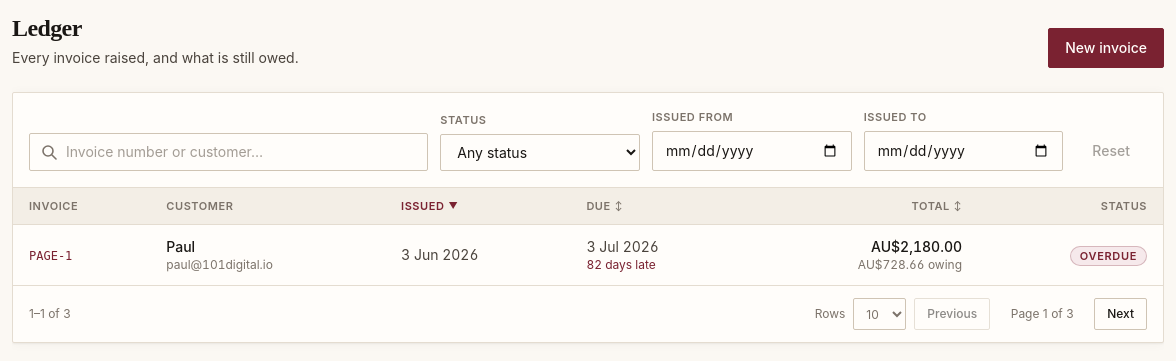
LedgerPage › fetches the next page from the server
Expected: the link "PAGE-1" is shown, [29,249,72,263]
Click the button "Next" at point(1121, 314), box [1094,298,1147,330]
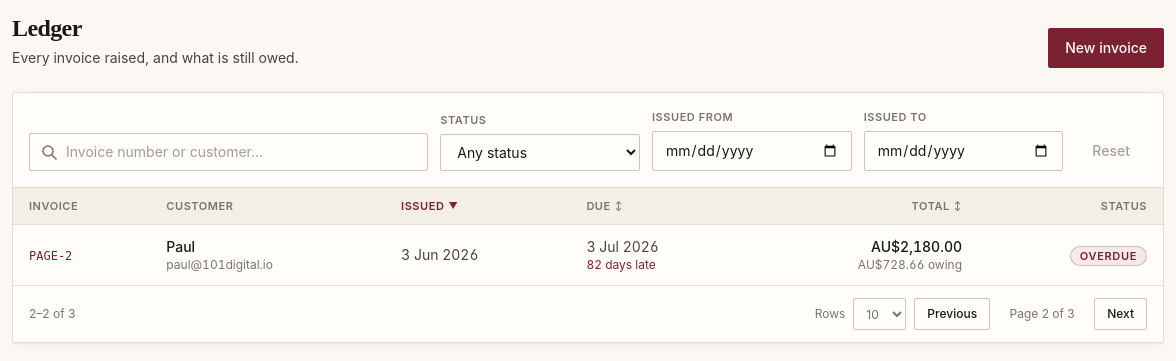
Now the link "PAGE-2" is shown, box [29,249,72,263]
Now the text "Page 2 of 3" is shown, box [1010,306,1075,321]
